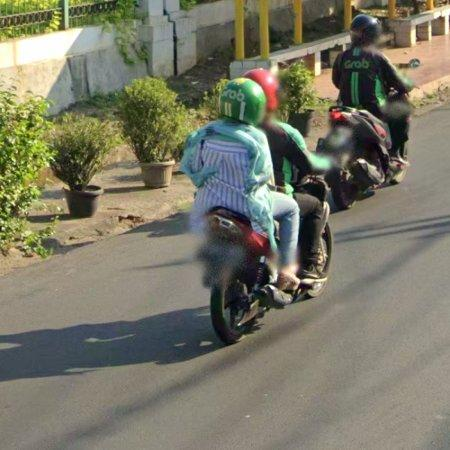motorcycles: (197, 207, 275, 345), (317, 106, 408, 210), (296, 169, 334, 274)
